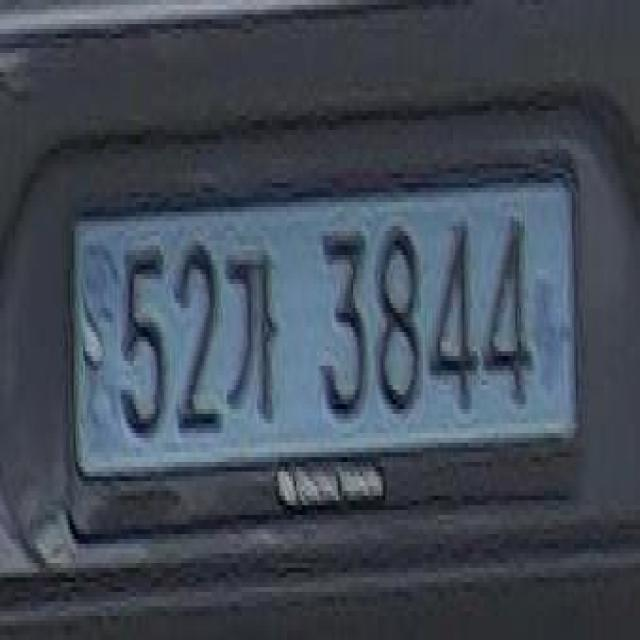EV_plate: (68, 162, 586, 534)
